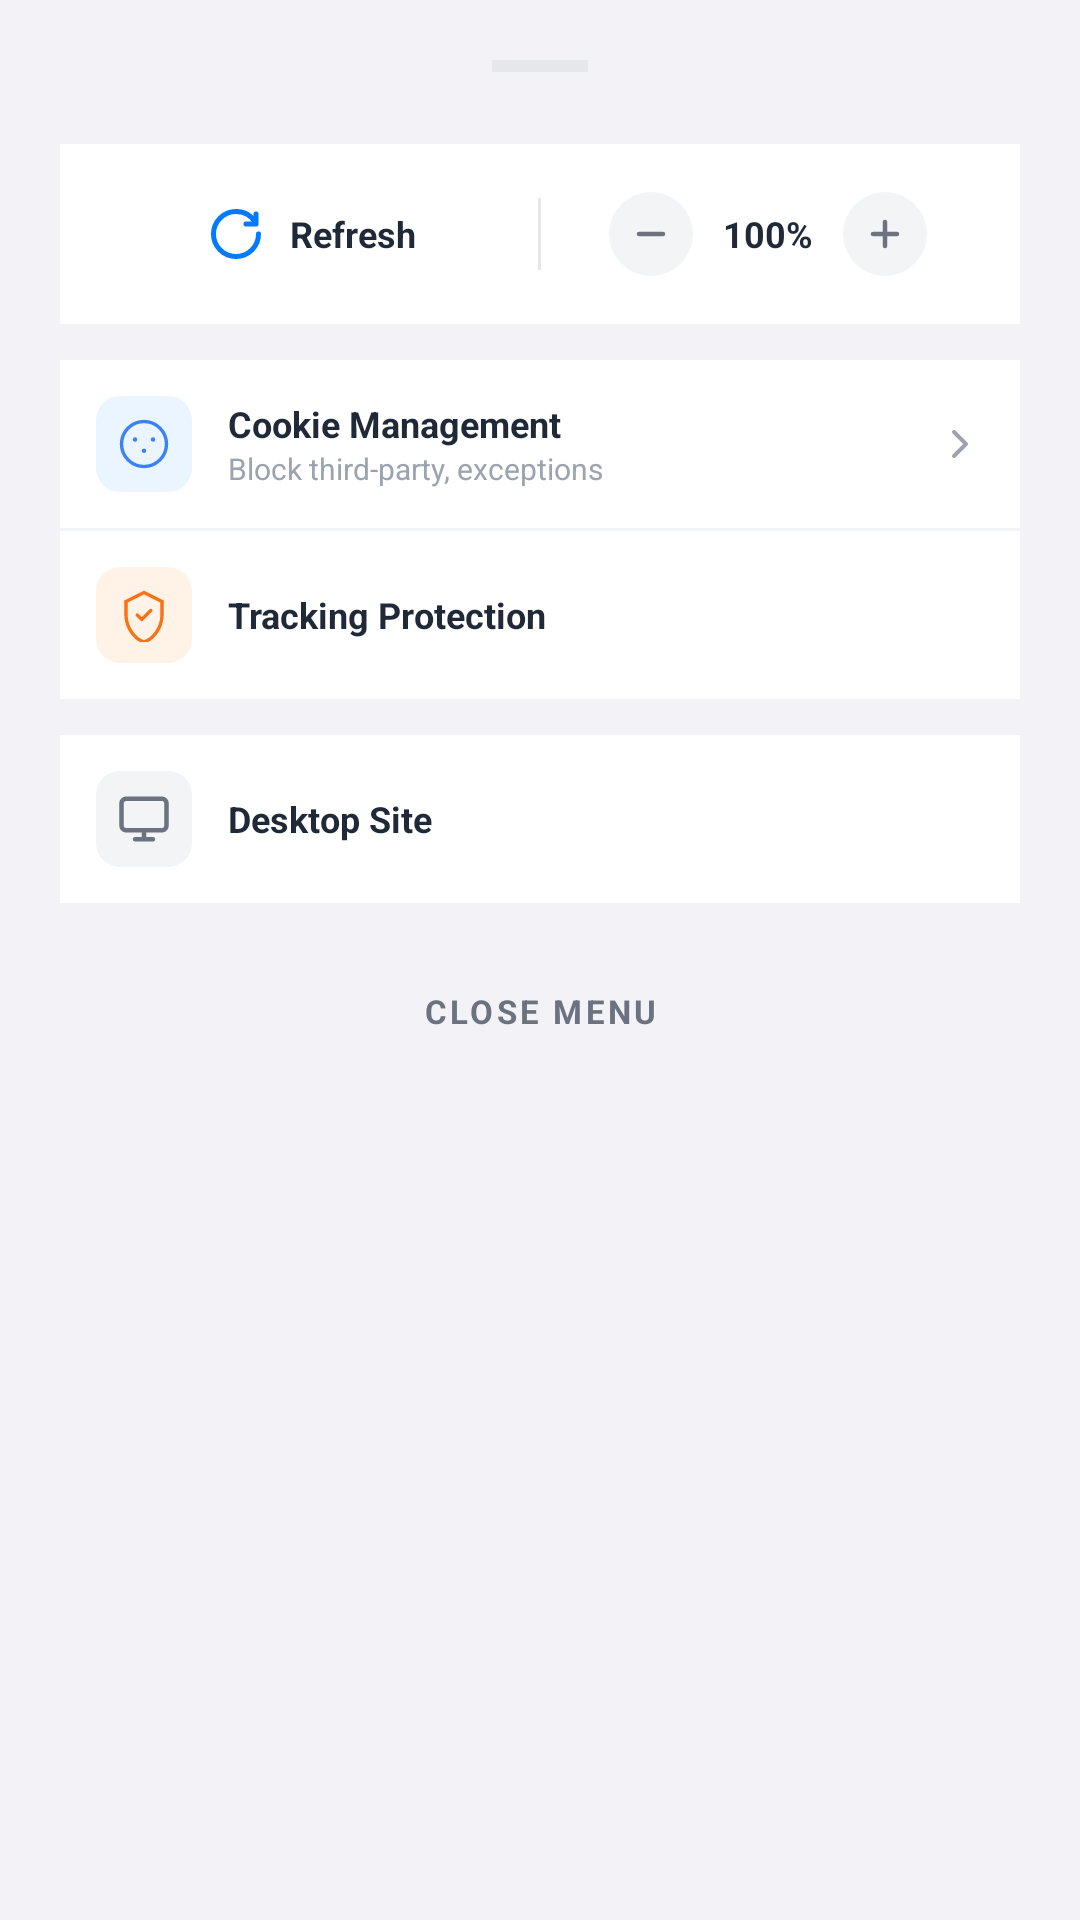

Locate icon controls on the screen. Image size 1080x1920, boxes as [x1,y1,x2,y2].
arrow right: [952,430,968,458]
minus: [636,231,665,237]
plus: [843,192,927,276]
shield: [124,590,164,642]
